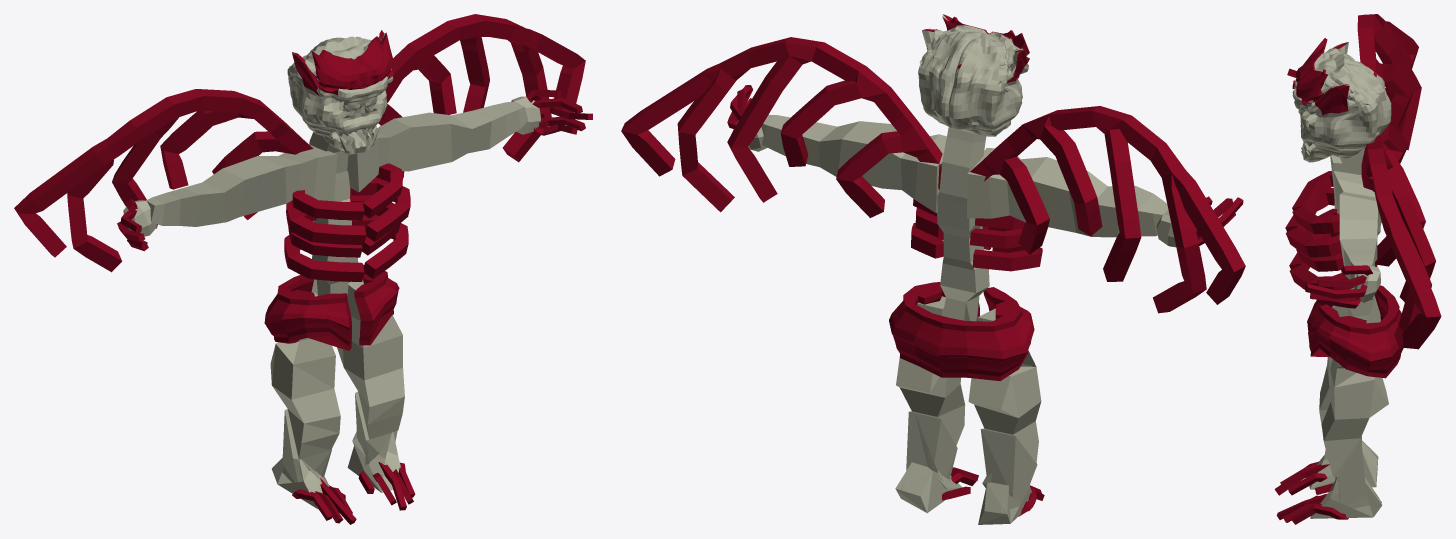
The model's file is Skeleton.glb.
3 views of the same model, side by side, from view 1: azimuth 30°, elevation 25°; view 2: azimuth 150°, elevation 25°; view 3: azimuth 270°, elevation 25° (orthographic). The views are drawn at different scales.
Parts seen in each view (by area): view 1: alas, Brazos, Piernas, costillas, pelvis, head, head.001, manos, pies, columna, muñecas; view 2: alas, Piernas, Brazos, pelvis, head, columna, costillas, manos, pies, head.001, muñecas; view 3: alas, Piernas, head, pelvis, costillas, Brazos, head.001, pies, manos, columna, muñecas.
Part boxes in pixels (bbox=[...]): alas: bbox=[14, 14, 585, 272]; Brazos: bbox=[146, 101, 527, 226]; Piernas: bbox=[270, 279, 404, 509]; costillas: bbox=[284, 163, 410, 281]; pelvis: bbox=[264, 264, 399, 350]; head: bbox=[287, 33, 393, 155]; head.001: bbox=[292, 30, 394, 95]; manos: bbox=[117, 89, 592, 251]; pies: bbox=[292, 462, 415, 524]; columna: bbox=[309, 132, 358, 297]; muñecas: bbox=[123, 96, 540, 236]; alas: bbox=[621, 37, 1245, 313]; Piernas: bbox=[895, 296, 1041, 524]; Brazos: bbox=[761, 114, 1169, 237]; pelvis: bbox=[889, 282, 1034, 380]; head: bbox=[918, 14, 1028, 136]; columna: bbox=[937, 127, 989, 321]; costillas: bbox=[911, 199, 1042, 271]; manos: bbox=[727, 85, 1243, 245]; pies: bbox=[942, 467, 1044, 516]; head.001: bbox=[923, 14, 1029, 82]; muñecas: bbox=[736, 121, 1176, 247]; alas: bbox=[1357, 14, 1441, 349]; Piernas: bbox=[1309, 305, 1388, 518]; head: bbox=[1292, 42, 1391, 162]; pelvis: bbox=[1307, 285, 1403, 378]; costillas: bbox=[1285, 171, 1377, 290]; Brazos: bbox=[1330, 155, 1381, 279]; head.001: bbox=[1296, 38, 1376, 115]; pies: bbox=[1274, 461, 1348, 524]; manos: bbox=[1287, 68, 1372, 308]; columna: bbox=[1340, 148, 1380, 323]; muñecas: bbox=[1353, 265, 1380, 302].
Bounding box in the file's own units: 7.75 × 5.88 × 1.98.
